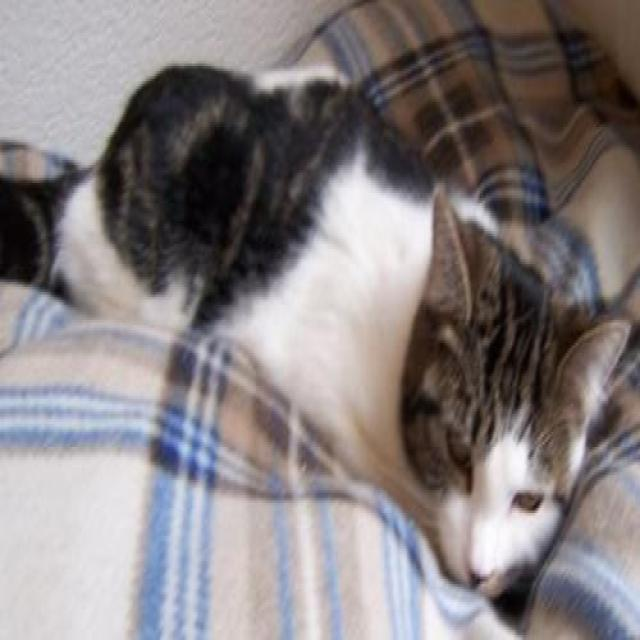Cats: (0, 58, 639, 602)
